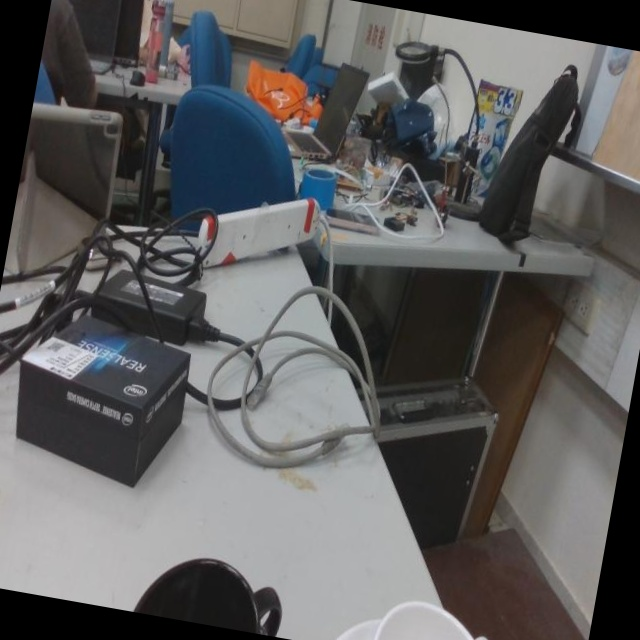black: (134, 554, 287, 625)
white: (332, 597, 503, 640)
